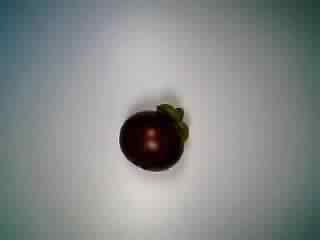mangosteen: (117, 99, 196, 174)
